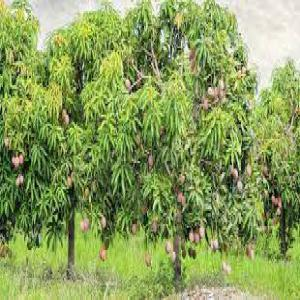Tree: (125, 0, 254, 287), (13, 2, 130, 270), (251, 54, 298, 261)
